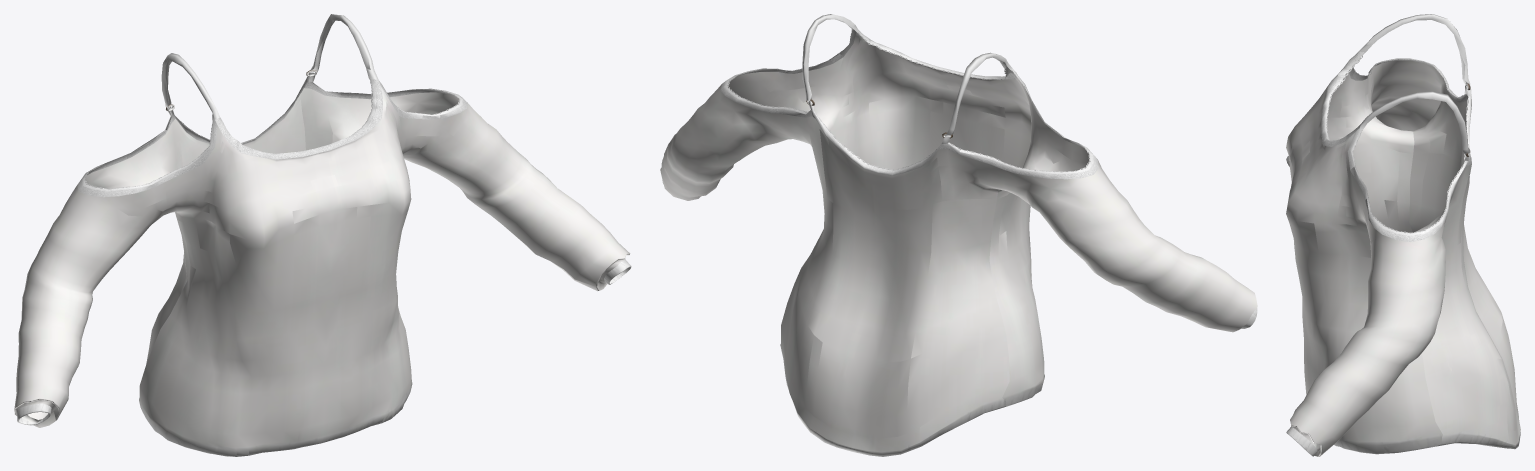
Rendered from punkduck-off-shoulder-long-sleeve-top.glb.
3 renders of one model, left to right at view 1: azimuth 30°, elevation 25°; view 2: azimuth 150°, elevation 25°; view 3: azimuth 270°, elevation 25°, orthographic. The views are drawn at different scales.
Visible parts, largest first — view 1: off-shoulder long-sleeve top; view 2: off-shoulder long-sleeve top; view 3: off-shoulder long-sleeve top.
Part boxes in pixels (<box>): off-shoulder long-sleeve top: <box>14,14,631,456</box>; off-shoulder long-sleeve top: <box>660,14,1257,456</box>; off-shoulder long-sleeve top: <box>1286,14,1520,456</box>.
Size of the model in its own units: 88.29 by 53.99 by 30.21.
Materials: 1 (1 with a texture image).
